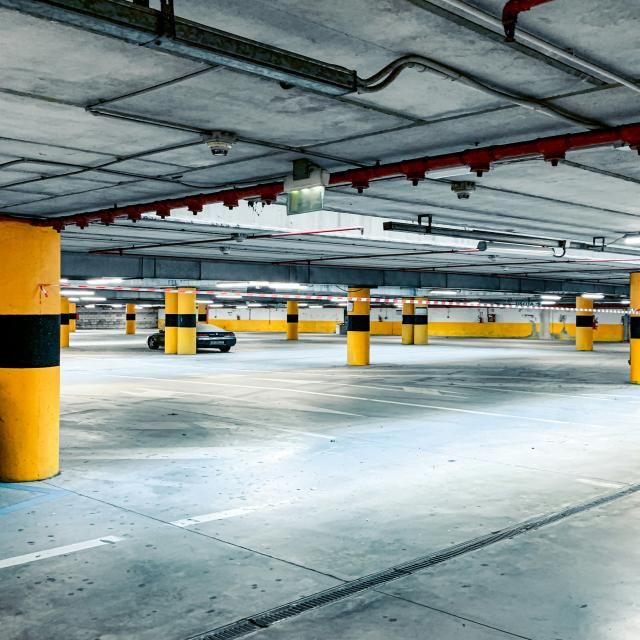pillar: (0, 219, 68, 482), (164, 292, 197, 355), (347, 288, 371, 365), (401, 297, 428, 345), (575, 297, 593, 351), (286, 301, 299, 340), (126, 304, 135, 334)
rebar: (3, 0, 605, 129), (328, 123, 640, 193), (44, 181, 283, 230)
